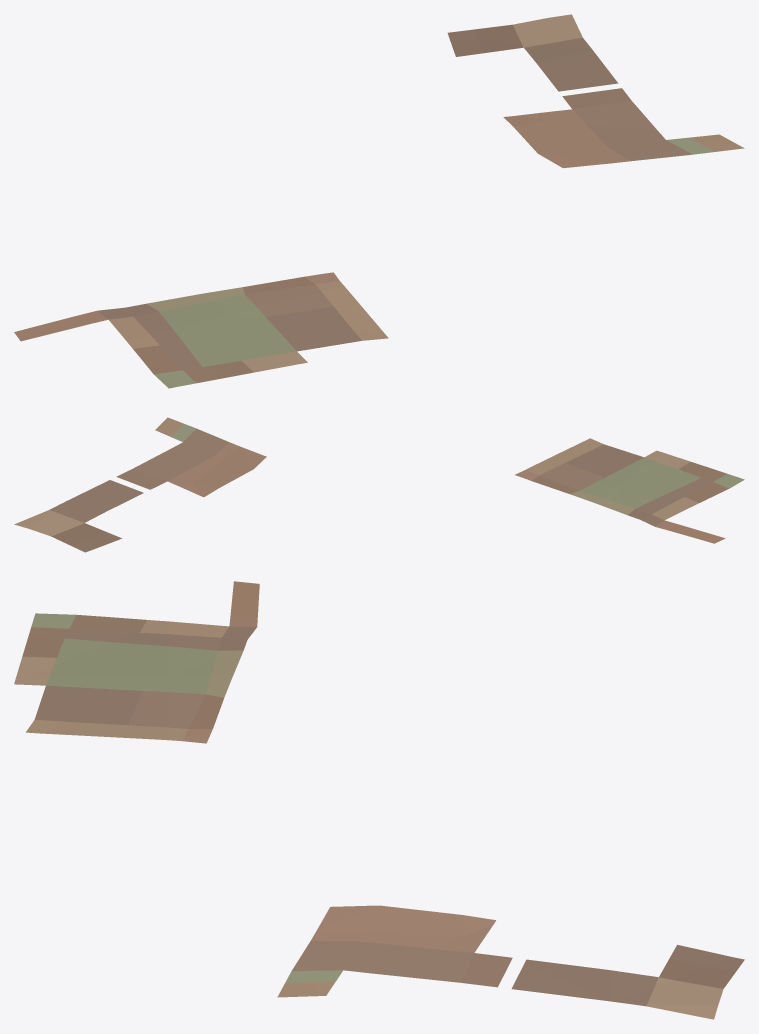
File: farm_7_11_soil.glb
3 views of the same model, one above another, from view 1: azimuth 30°, elevation 25°; view 2: azimuth 150°, elevation 25°; view 3: azimuth 270°, elevation 25° (orthographic). The views are drawn at different scales.
Visible parts, largest first — view 1: geometry_0; view 2: geometry_0; view 3: geometry_0.
Boxes of the visible parts, x1=… form: geometry_0: x1=14, y1=14, x2=744, y2=388; geometry_0: x1=14, y1=417, x2=744, y2=552; geometry_0: x1=14, y1=581, x2=744, y2=1019.
Bounding box in the file's own units: 545 × 12.81 × 397.
